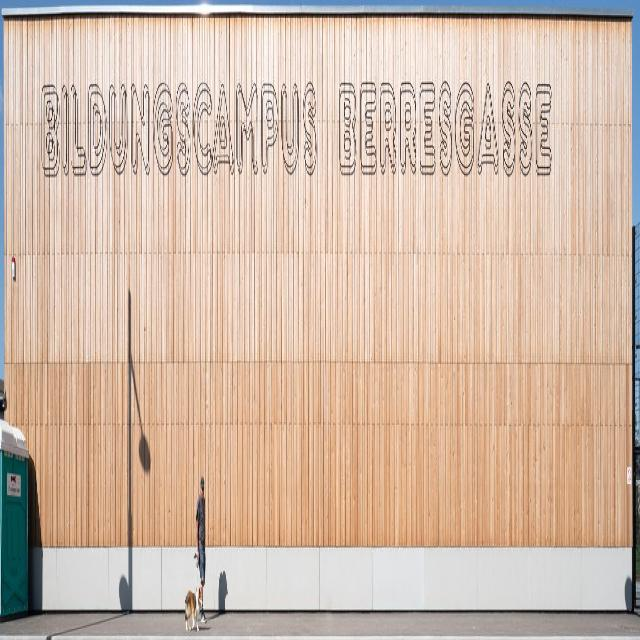wall: (3, 0, 627, 590)
